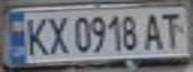0: (69, 12, 93, 54)
1: (106, 11, 124, 52)
8: (121, 11, 142, 52)
9: (87, 12, 109, 54)
A: (139, 10, 169, 52)
K: (21, 14, 51, 57)
T: (157, 9, 187, 50)
X: (42, 12, 69, 56)
